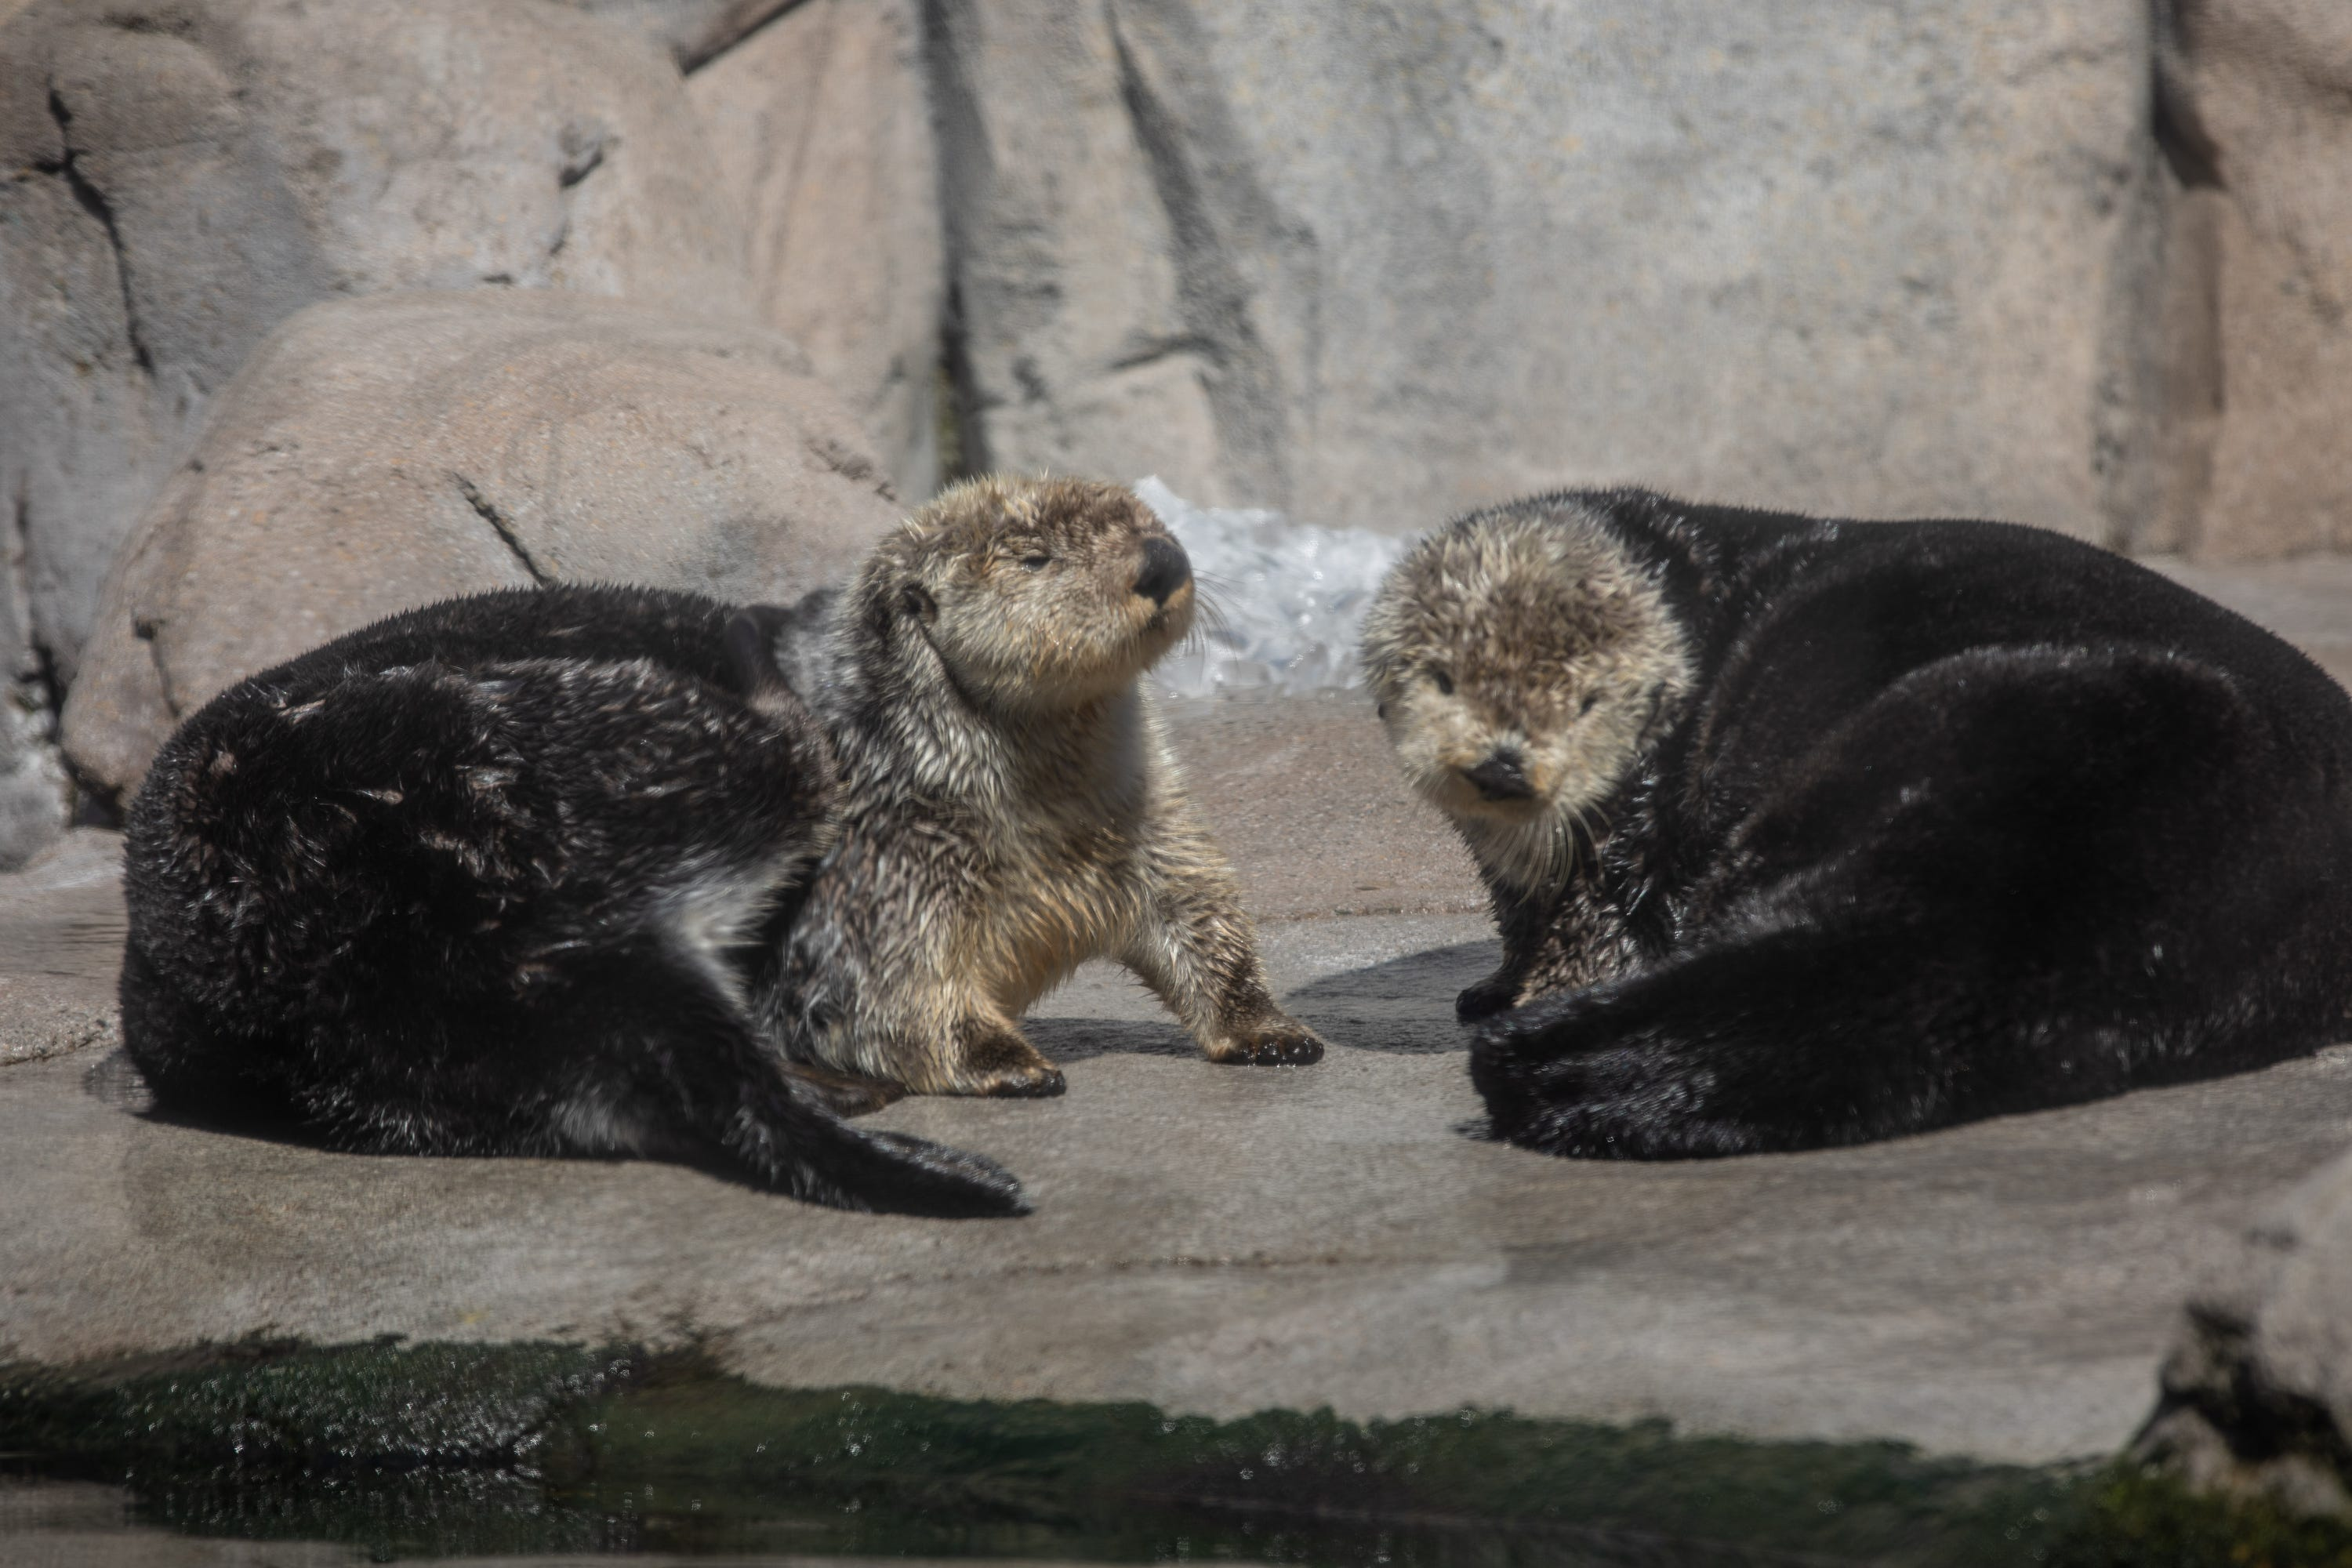otter: (75, 346, 1281, 1257), (1306, 334, 2314, 1208)
